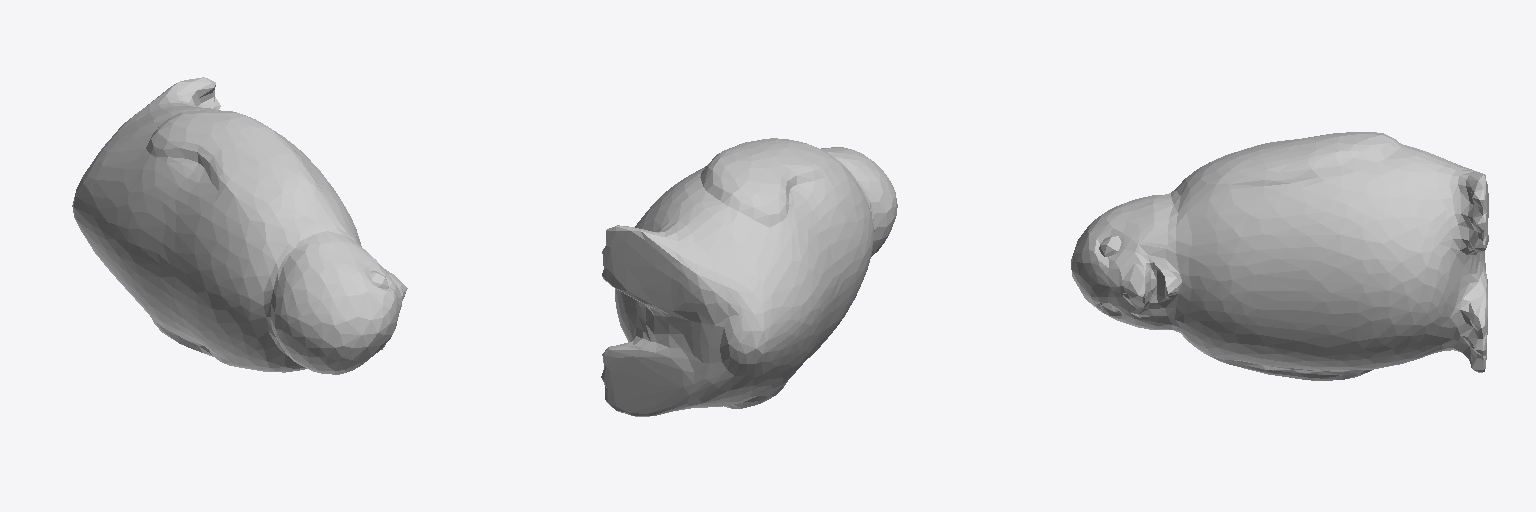
The model's file is penguin-2500-triangle.obj.
3 views of the same model, side by side, from view 1: azimuth 30°, elevation 25°; view 2: azimuth 150°, elevation 25°; view 3: azimuth 270°, elevation 25° (orthographic).
Size of the model in its own units: 5.14 by 6.1 by 10.03.